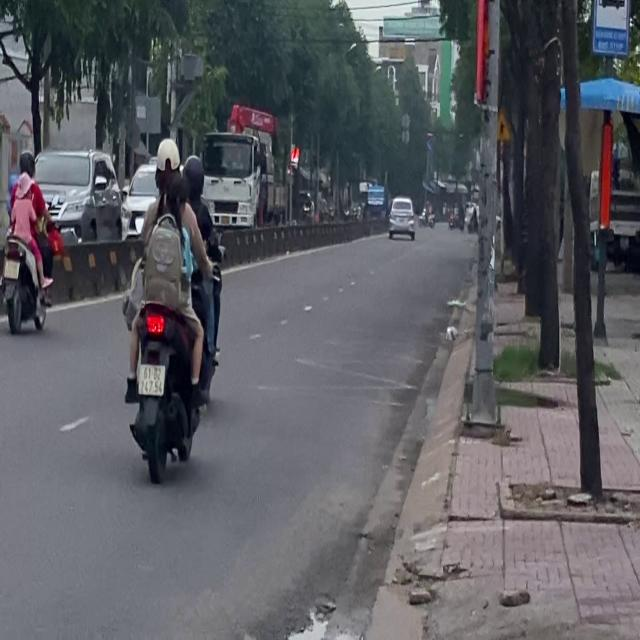helmet: (154, 136, 180, 185), (182, 154, 204, 198), (19, 150, 36, 177)
licenseplate: (120, 130, 219, 482), (0, 148, 52, 334)
motorcyclist: (163, 173, 188, 226), (15, 169, 34, 204)
nohelmet: (138, 364, 164, 396), (4, 260, 20, 280)
